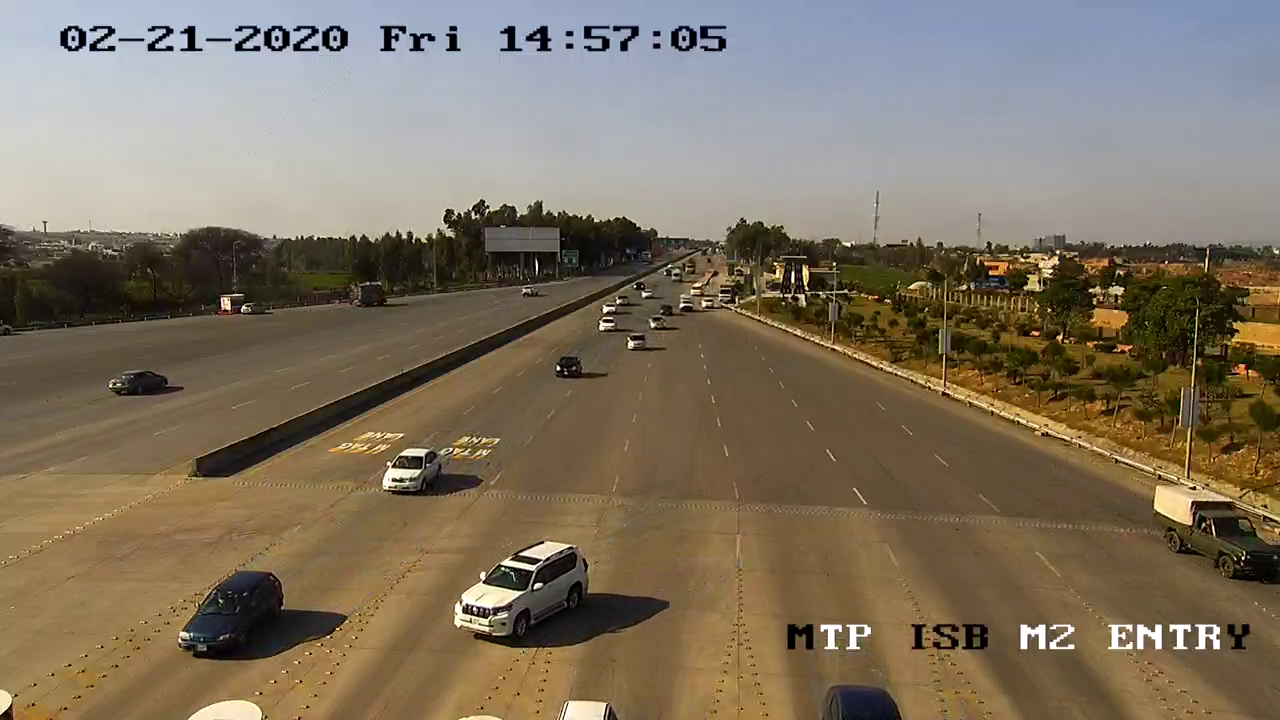f1: (448, 534, 597, 646), (1146, 475, 1280, 586), (169, 558, 294, 672), (369, 444, 448, 508)
